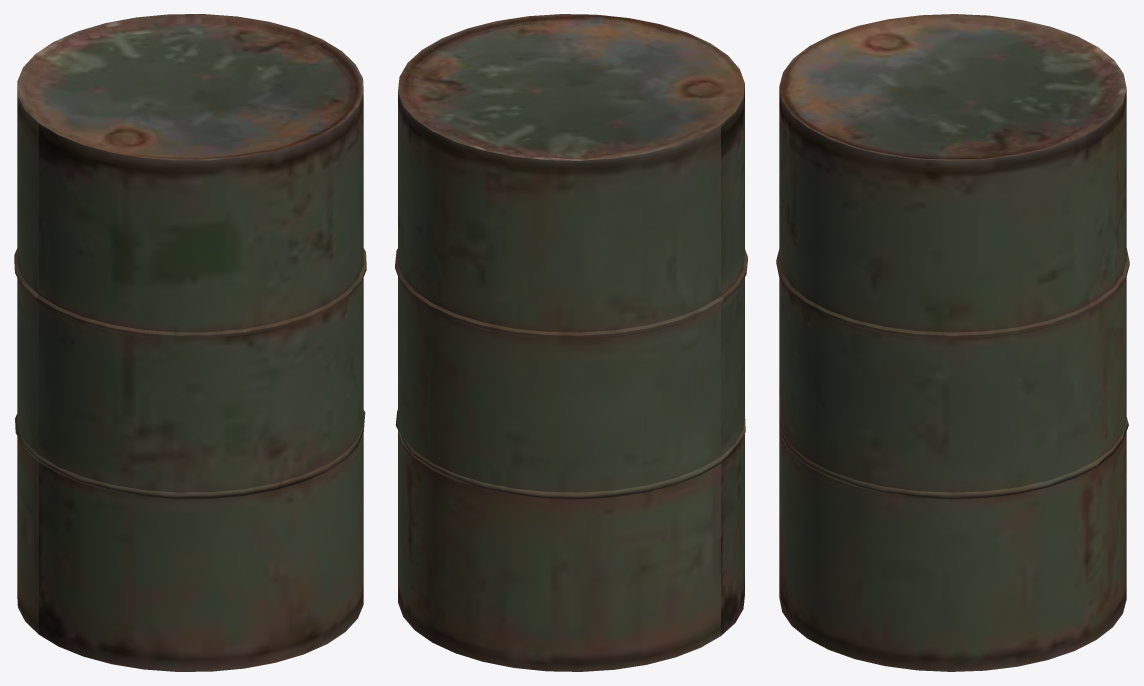
The model's file is cove-barrel.lod0.glb.
3 views of the same model, side by side, from view 1: azimuth 30°, elevation 25°; view 2: azimuth 150°, elevation 25°; view 3: azimuth 270°, elevation 25° (orthographic).
Visible parts, largest first — view 1: Barrel_Barrel_0; view 2: Barrel_Barrel_0; view 3: Barrel_Barrel_0.
Boxes of the visible parts, <box> form: Barrel_Barrel_0: <box>14,14,366,671</box>; Barrel_Barrel_0: <box>395,14,747,671</box>; Barrel_Barrel_0: <box>776,14,1129,671</box>.
Size of the model in its own units: 0.6261 by 1 by 0.6261.
1 material, 1 textured.
